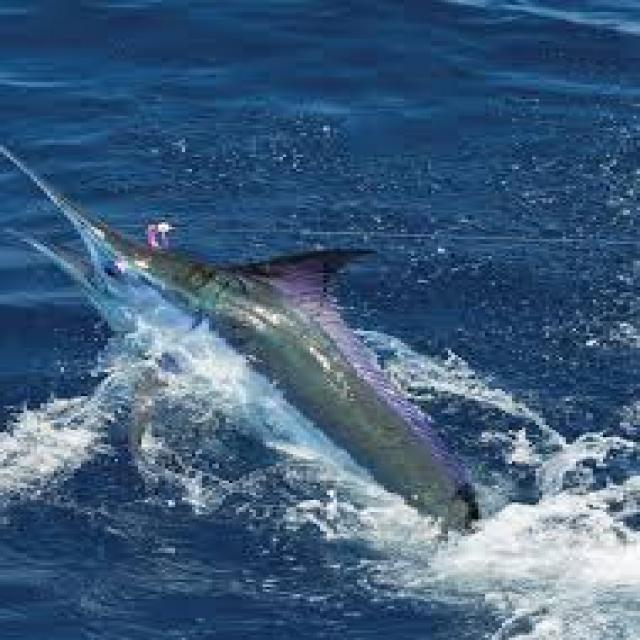Blue Marlin: (3, 140, 482, 543)
